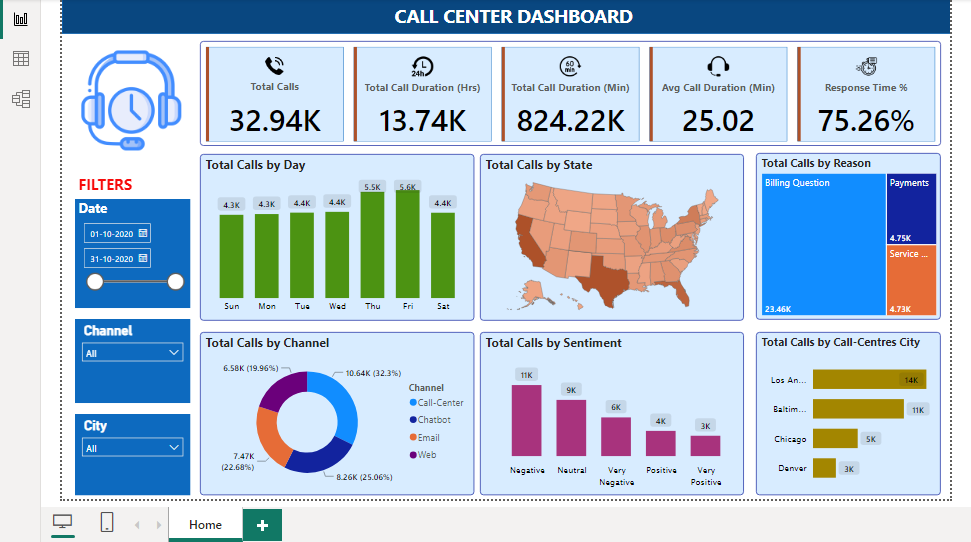

The dashboard page shown, as its layout file describes it:
{"tool":"powerbi","page":{"name":"Home","canvas":[1280,720],"ordinal":0},"visuals":[{"type":"cardVisual","fields":{"Data":["Call _Center_Dashboard.Total Calls","Call _Center_Dashboard.Total Call Duration (Hrs)","Call _Center_Dashboard.Total Call Duration (Min)","Call _Center_Dashboard.Avg Call Duration (Min)","Call _Center_Dashboard.Response Time %"]},"box":[198.7,60.5,1067,151.2],"z":0},{"type":"columnChart","fields":{"Category":["Date Table.Day"],"Y":["Call _Center_Dashboard.Total Calls"]},"box":[198.7,223.2,394.6,240.5],"z":1000},{"type":"shapeMap","fields":{"Category":["Call _Center_Dashboard.State"],"Value":["Call _Center_Dashboard.Total Calls"]},"box":[601.9,223.2,380.2,240.5],"z":2000},{"type":"treemap","fields":{"Group":["Call _Center_Dashboard.Reason"],"Values":["Call _Center_Dashboard.Total Calls"]},"box":[999.4,221.8,266.4,240.5],"z":3000},{"type":"donutChart","fields":{"Category":["Call _Center_Dashboard.Channel"],"Y":["Call _Center_Dashboard.Total Calls"]},"box":[198.7,479.5,394.6,234.7],"z":4000},{"type":"columnChart","fields":{"Category":["Call _Center_Dashboard.Sentiment"],"Y":["Call _Center_Dashboard.Total Calls"]},"box":[601.9,479.5,380.2,234.7],"z":5000},{"type":"barChart","fields":{"Category":["Call _Center_Dashboard.Call-Centres City"],"Y":["Call _Center_Dashboard.Total Calls"]},"box":[999.4,479.5,266.4,234.7],"z":6000},{"type":"slicer","title":"Date","fields":{"Values":["Date Table.Date"]},"box":[18.7,288,165.6,157],"z":7000},{"type":"slicer","fields":{"Values":["Call _Center_Dashboard.City"]},"box":[18.7,597.6,165.6,116.6],"z":8000},{"type":"slicer","fields":{"Values":["Call _Center_Dashboard.Channel","Call _Center_Dashboard.City"]},"box":[18.7,460.8,165.6,121],"z":9000},{"type":"shape","box":[0,0,1280.2,50.4],"z":10000},{"type":"textbox","box":[466.6,0,401.8,50.4],"z":11000},{"type":"image","box":[15.8,69.1,167,154.1],"z":12000},{"type":"textbox","box":[18.7,247.7,97.9,40.3],"z":15001}]}

Visuals, with their boxes on the page's 1280x720 design canvas (x1, y1, x2, y2). These are canvas units, not pixel positions in the 971x542 screenshot, which may show the page scaled, cropped or inside an application window:
cardVisual - Call _Center_Dashboard.Total Calls x Call _Center_Dashboard.Total Call Duration (Hrs): crop(199, 60, 1266, 212)
columnChart - Date Table.Day x Call _Center_Dashboard.Total Calls: crop(199, 223, 593, 464)
shapeMap - Call _Center_Dashboard.State x Call _Center_Dashboard.Total Calls: crop(602, 223, 982, 464)
treemap - Call _Center_Dashboard.Reason x Call _Center_Dashboard.Total Calls: crop(999, 222, 1266, 462)
donutChart - Call _Center_Dashboard.Channel x Call _Center_Dashboard.Total Calls: crop(199, 480, 593, 714)
columnChart - Call _Center_Dashboard.Sentiment x Call _Center_Dashboard.Total Calls: crop(602, 480, 982, 714)
barChart - Call _Center_Dashboard.Call-Centres City x Call _Center_Dashboard.Total Calls: crop(999, 480, 1266, 714)
"Date" slicer: crop(19, 288, 184, 445)
slicer - Call _Center_Dashboard.City: crop(19, 598, 184, 714)
slicer - Call _Center_Dashboard.Channel x Call _Center_Dashboard.City: crop(19, 461, 184, 582)
shape: crop(0, 0, 1280, 50)
textbox: crop(467, 0, 868, 50)
image: crop(16, 69, 183, 223)
textbox: crop(19, 248, 117, 288)
